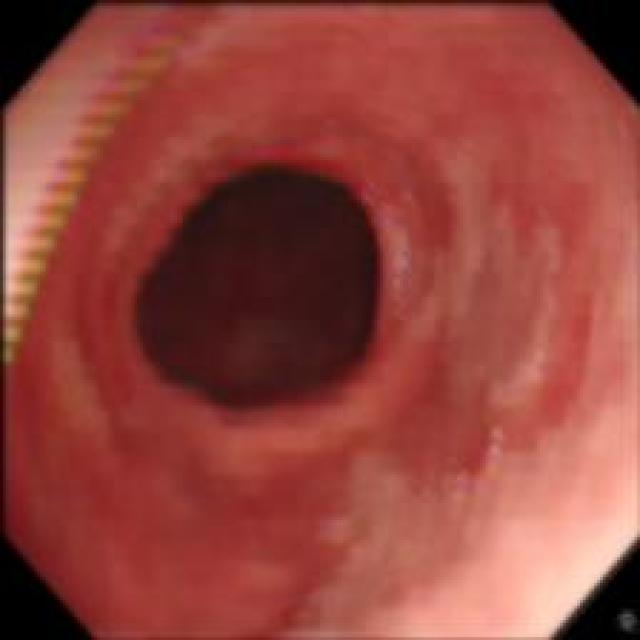blur: (0, 2, 638, 635), (282, 436, 539, 630)
color misalignment: (4, 209, 59, 374), (140, 4, 196, 78), (58, 111, 94, 209), (92, 68, 142, 129), (388, 221, 414, 320), (355, 166, 381, 209)
contrast: (132, 166, 385, 415)
